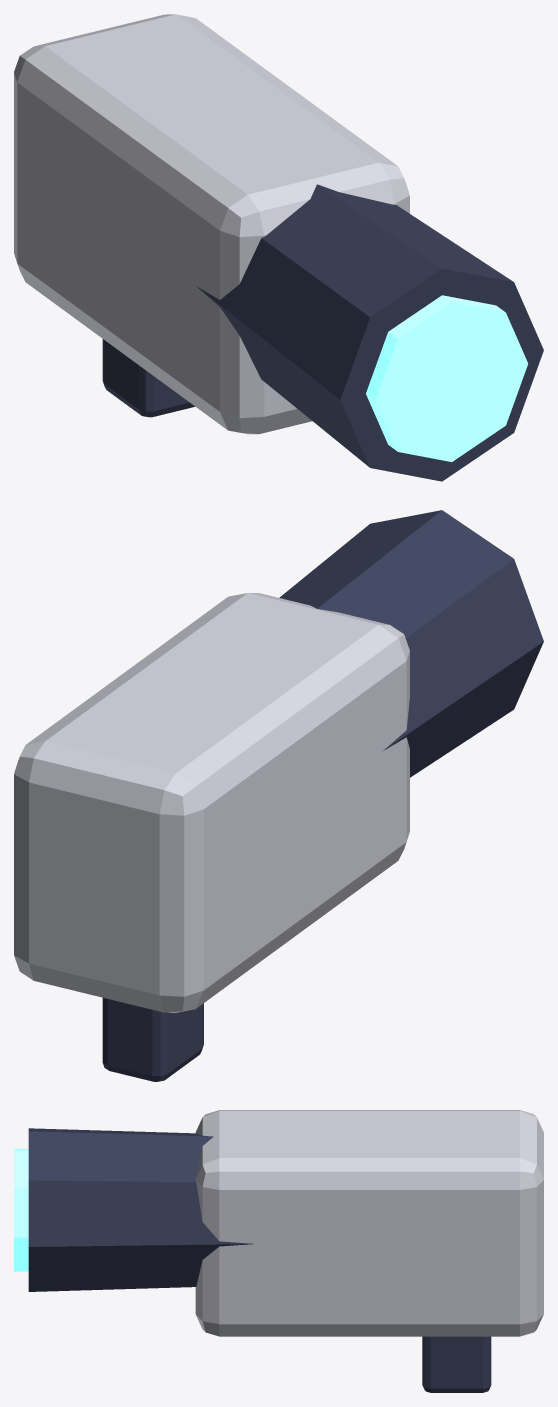
Rendered from SM_Aurora_Emitter.fbx.
3 renders of one model, top to bottom at view 1: azimuth 30°, elevation 25°; view 2: azimuth 150°, elevation 25°; view 3: azimuth 270°, elevation 25°, orthographic. The views are drawn at different scales.
Parts seen in each view (by area): view 1: SM_Aurora_Emitter; view 2: SM_Aurora_Emitter; view 3: SM_Aurora_Emitter.
Part boxes in pixels (<box>): SM_Aurora_Emitter: <box>14,14,543,481</box>; SM_Aurora_Emitter: <box>14,510,543,1081</box>; SM_Aurora_Emitter: <box>14,1110,543,1392</box>.
Bounding box in the file's own units: 24 × 73 × 38.5.
